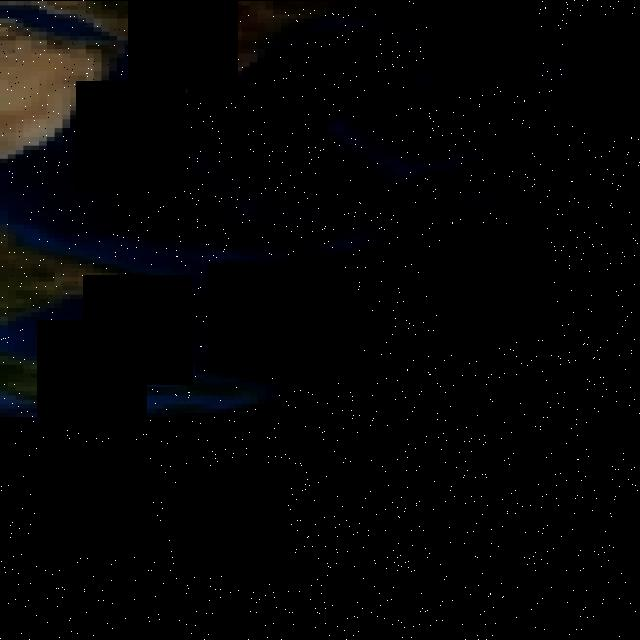Earth: (0, 0, 624, 425)
